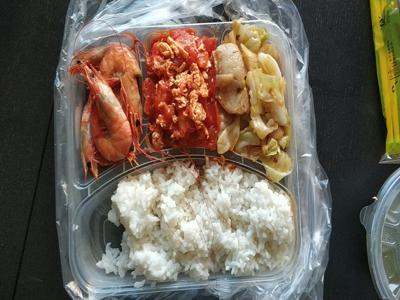jdxhs: (141, 31, 218, 149)
rice: (112, 168, 297, 277)
